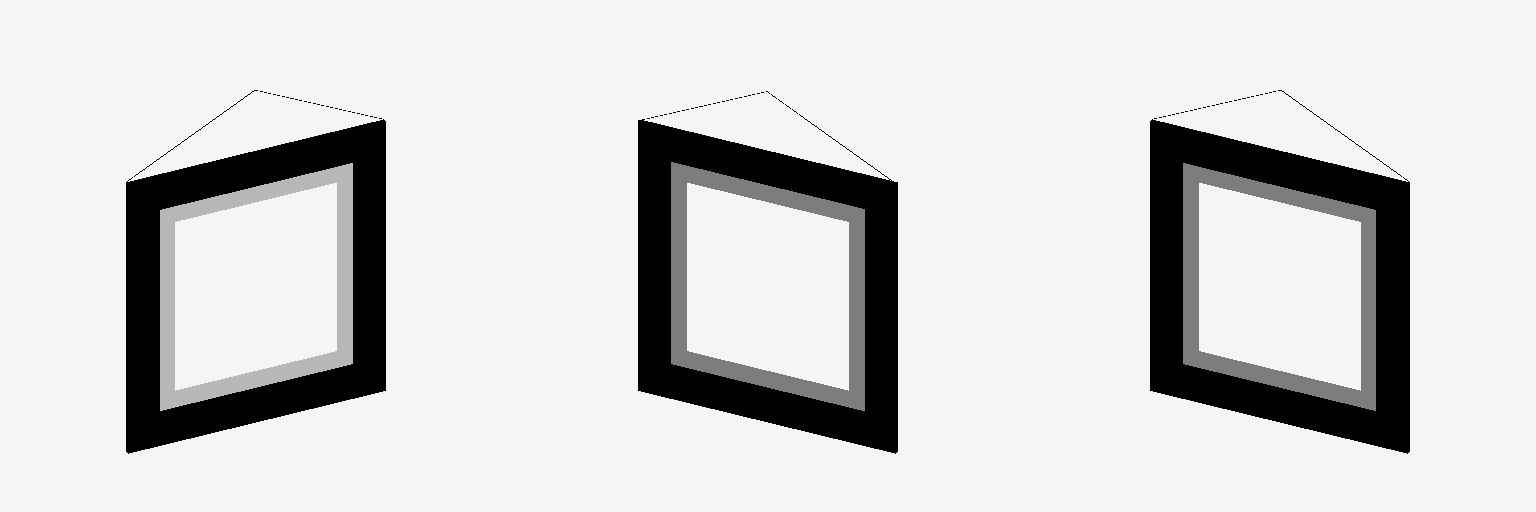
Rendered from frameWork.obj.
3 views of the same model, side by side, from view 1: azimuth 30°, elevation 25°; view 2: azimuth 150°, elevation 25°; view 3: azimuth 330°, elevation 25° (orthographic).
Visible parts, largest first — view 1: Cube; view 2: Cube; view 3: Cube.
Boxes of the visible parts, box(x1,y1,x2,y2) form: Cube: box(126, 90, 385, 453); Cube: box(638, 91, 897, 453); Cube: box(1150, 90, 1409, 453).
Size of the model in its own units: 3.2 by 3.93 by 0.0478.